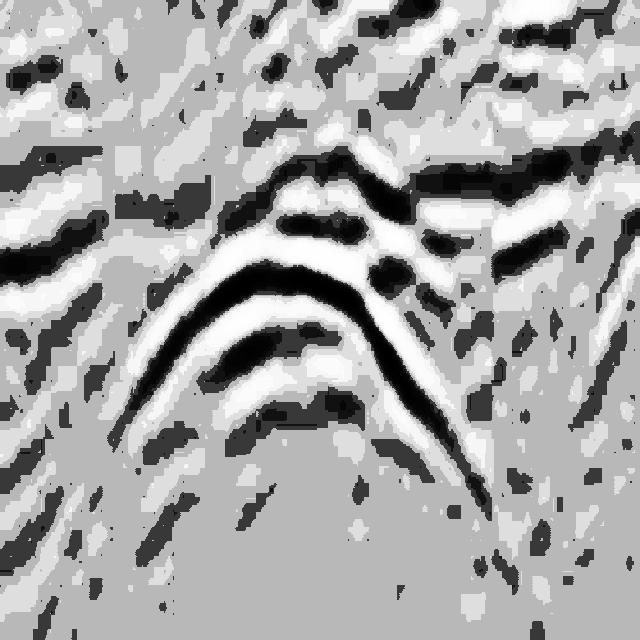hyperbola: (146, 200, 454, 439)
